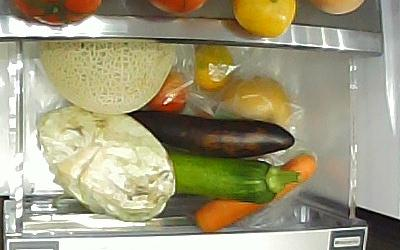cabbage: (36, 106, 174, 222)
carrot: (193, 154, 316, 232)
eggplant: (125, 112, 295, 159)
melon: (36, 41, 175, 115)
pear_vinyl: (226, 77, 292, 124)
prune_vinyl: (146, 73, 189, 112)
tangerine_vinyl: (189, 45, 238, 95)
zucchini: (167, 152, 299, 204)
